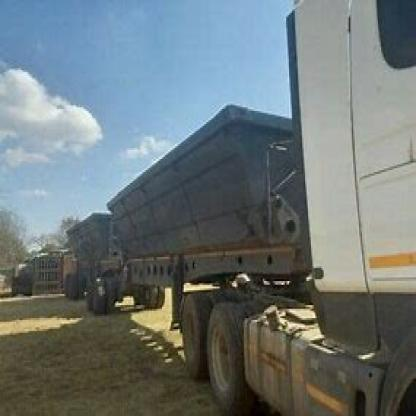dump_truck: (63, 0, 414, 414)
